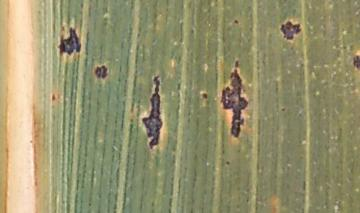tarspot: (221, 62, 249, 137), (143, 76, 162, 148), (58, 27, 81, 55), (280, 19, 301, 40), (95, 64, 108, 78), (353, 54, 360, 71), (201, 90, 208, 101), (233, 18, 240, 26), (51, 92, 57, 101), (224, 160, 231, 166), (281, 106, 286, 112)
